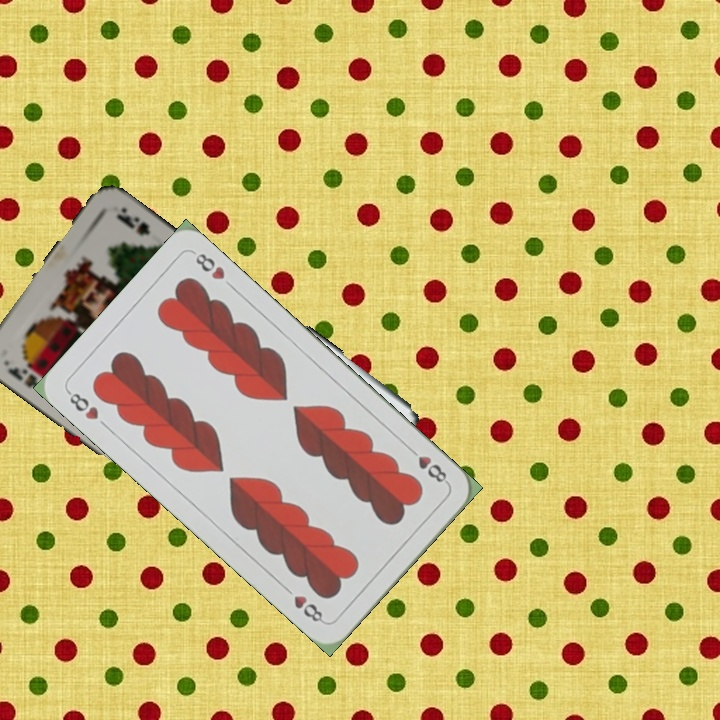H8: (403, 443, 451, 486), (63, 386, 102, 423)
SK: (4, 363, 41, 390)
